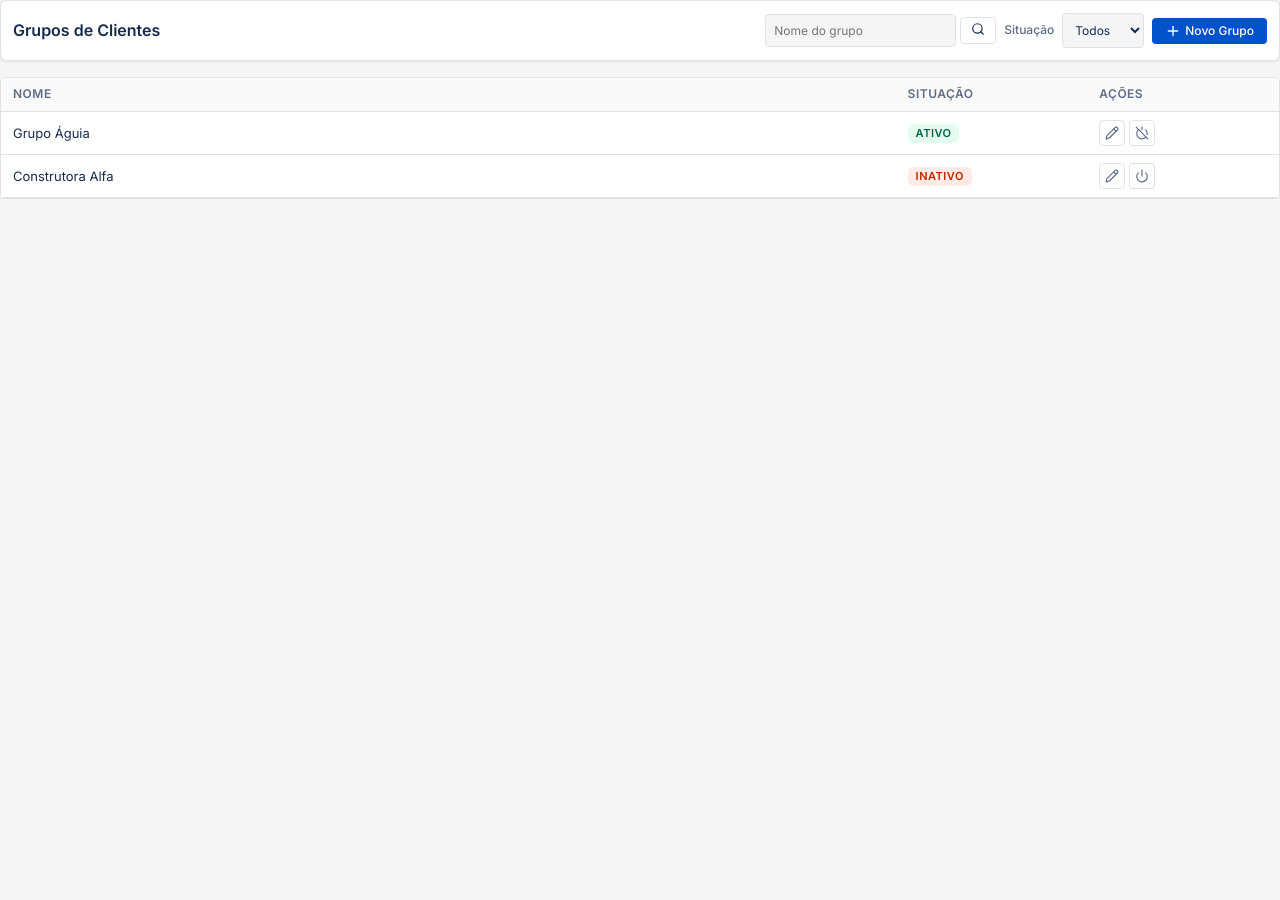
Test: GruposClientes › valida o nome e cria o grupo sem espaços nas pontas
Check: the text "Grupo Águia" is shown, box [1,111,896,154]
Click the button "Novo Grupo".
click(1210, 30)  # box [1152,18,1267,44]
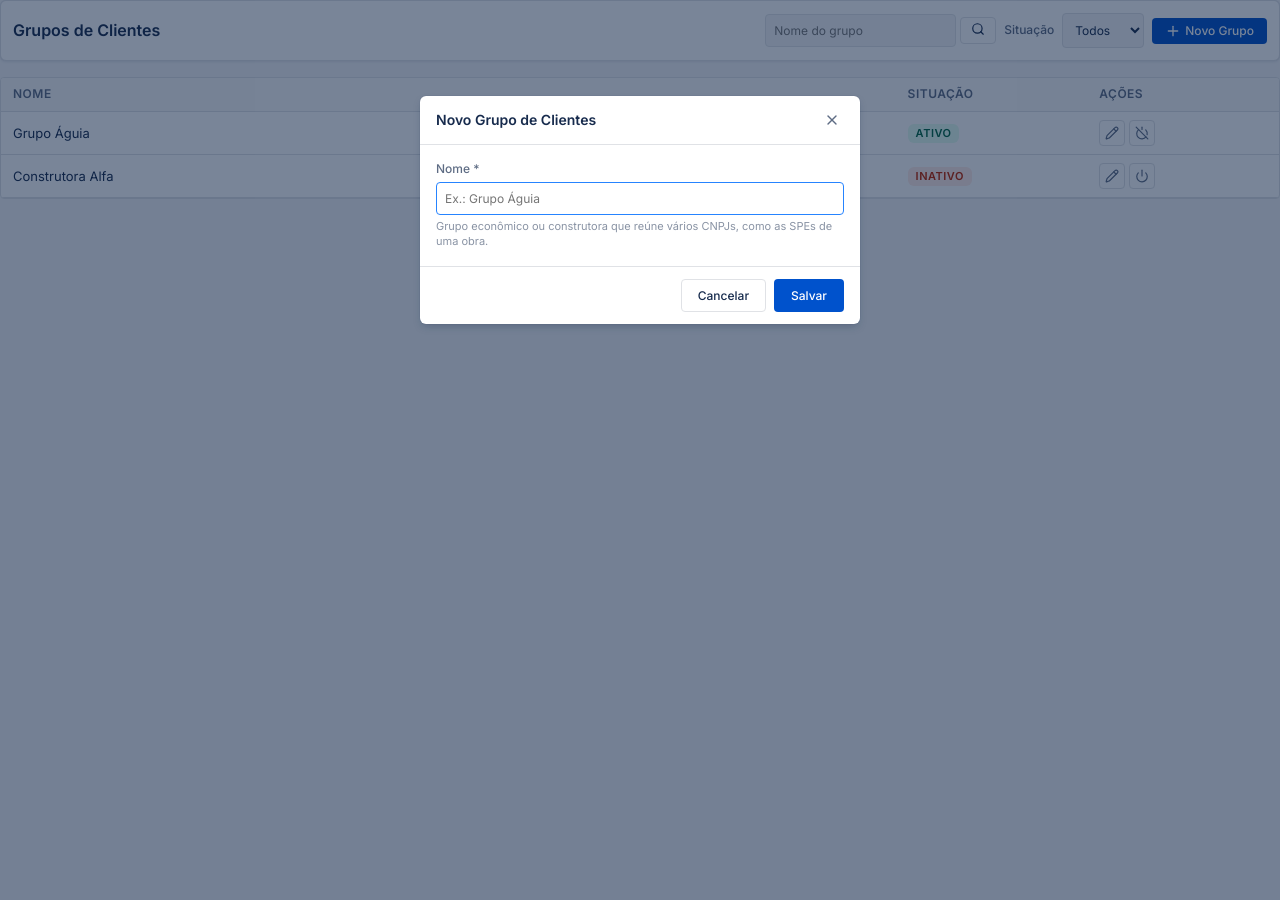
Click the button "Salvar".
click(809, 295)  # box [774,279,844,312]
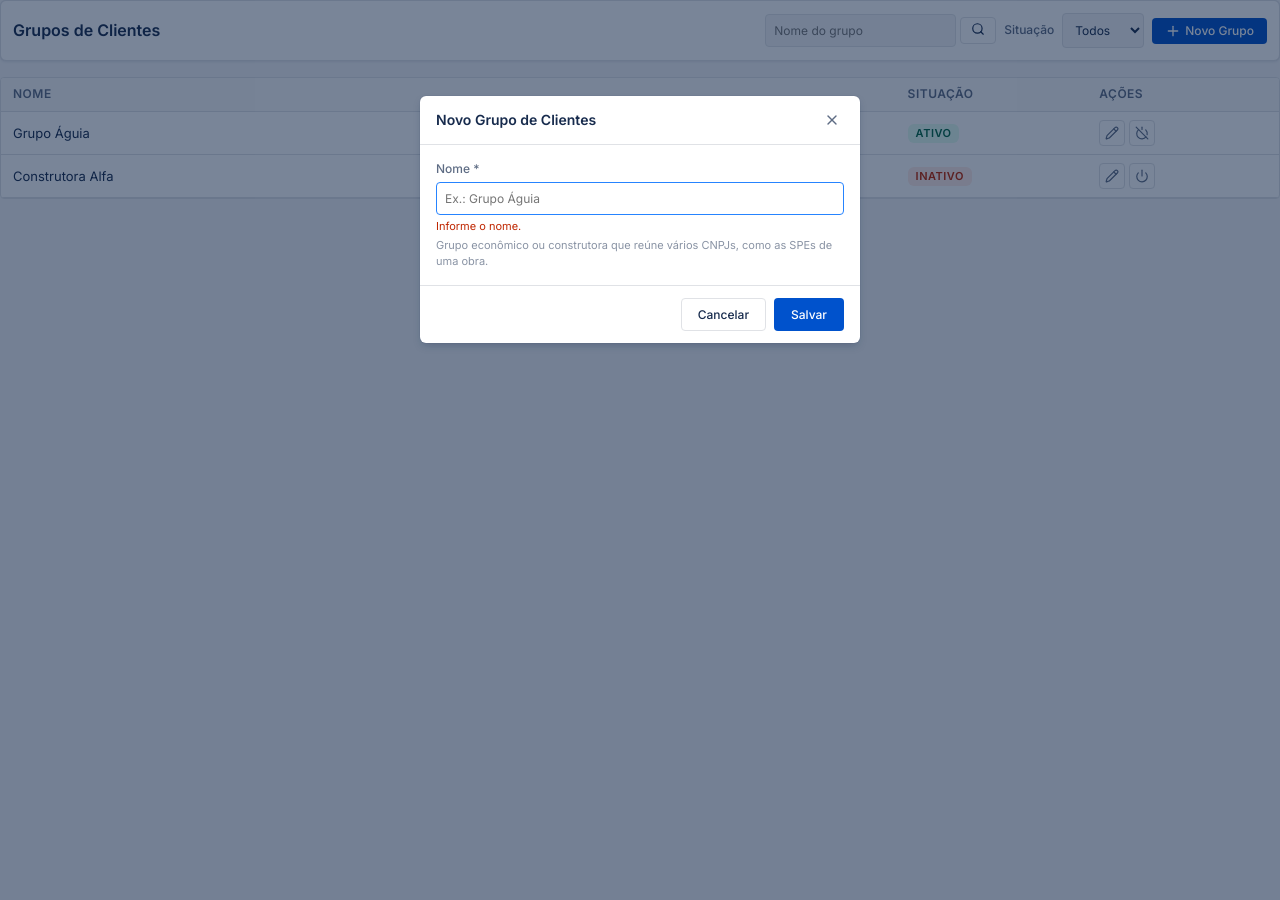
Check: the text "Informe o nome." is shown, box [436,219,521,233]
Type "  Grupo Beta " into the field labelled "Nome *".
click(640, 198); type("  Grupo Beta ")  # box [436,182,844,215]
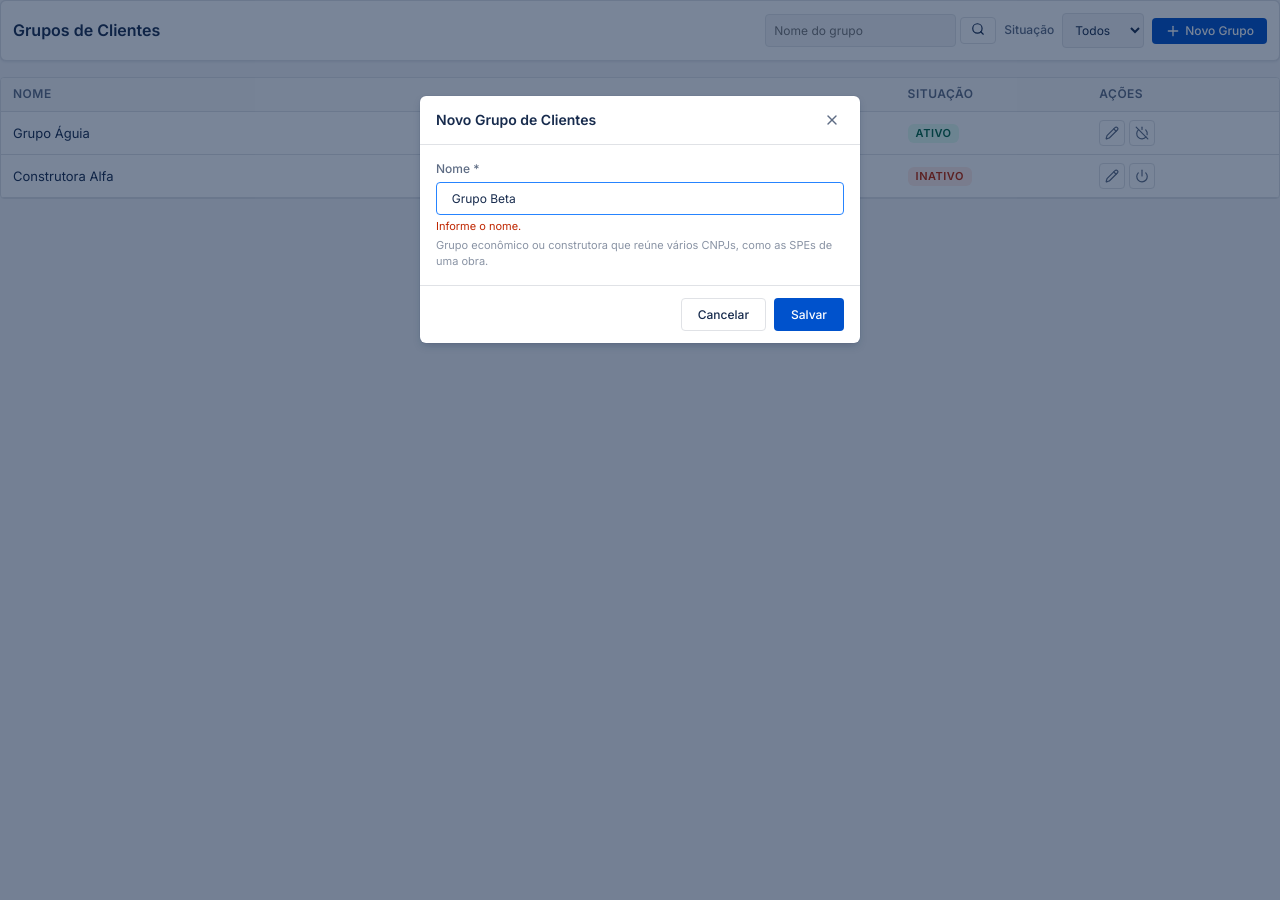
Click the button "Salvar".
click(809, 314)  # box [774,298,844,331]
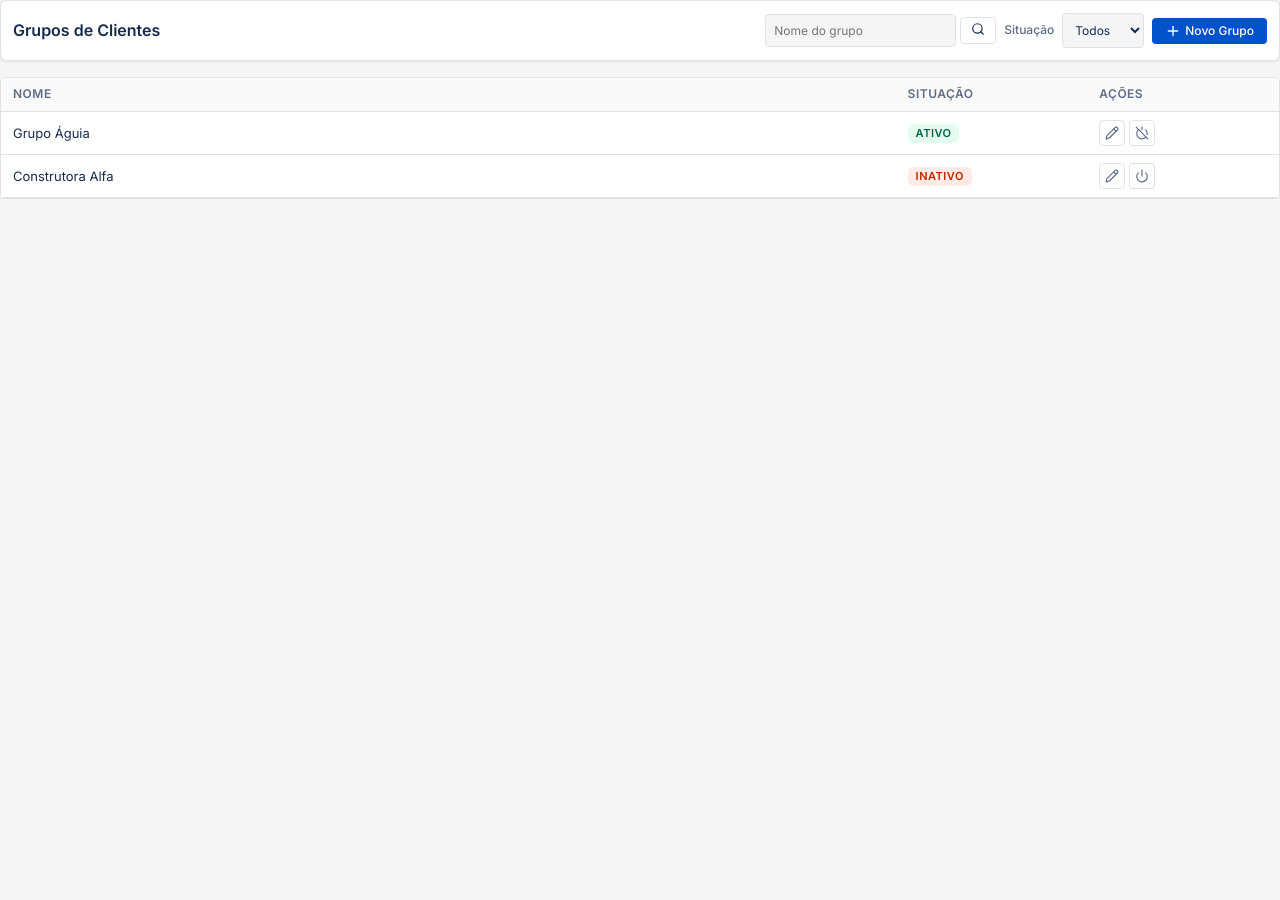
Check: the dialog is gone
